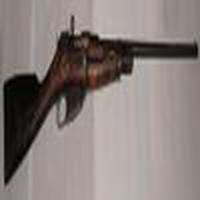gun: (2, 28, 198, 187)
